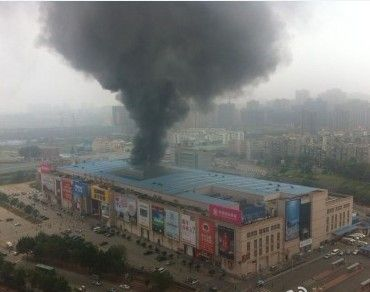smoke: (55, 9, 276, 150)
